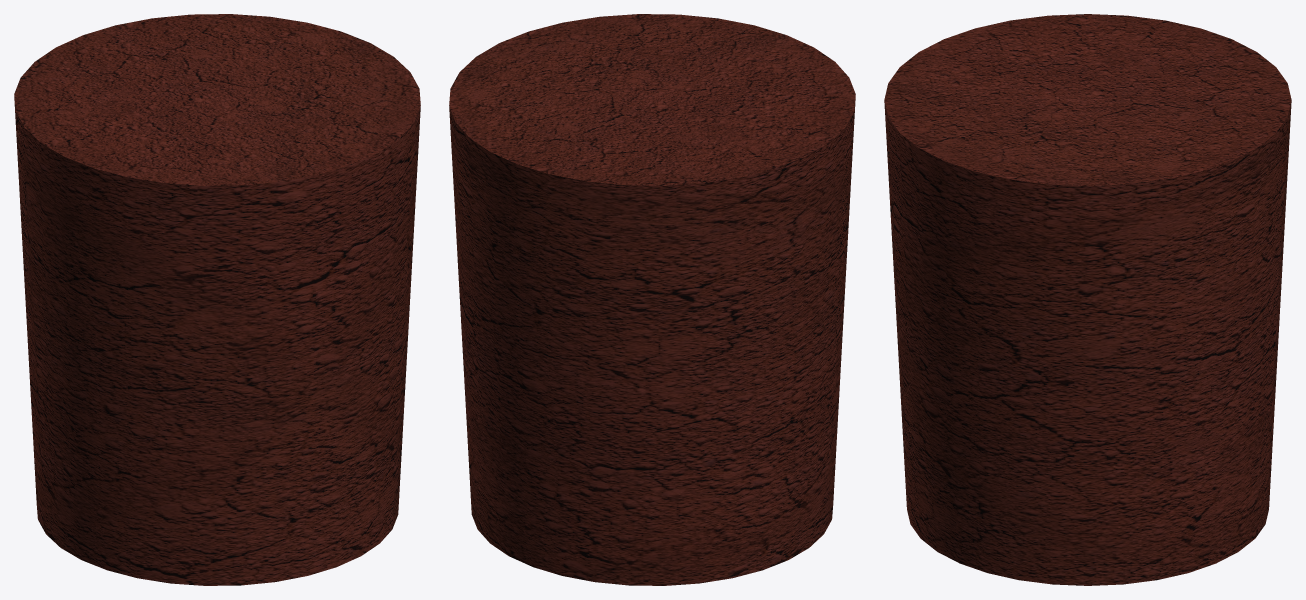
The model's file is dirt.gltf.
3 views of the same model, side by side, from view 1: azimuth 30°, elevation 25°; view 2: azimuth 150°, elevation 25°; view 3: azimuth 270°, elevation 25° (orthographic).
Visible parts, largest first — view 1: Cylinder; view 2: Cylinder; view 3: Cylinder.
Part boxes in pixels (x1,y1,x2,y2): Cylinder: [14, 14, 420, 585]; Cylinder: [449, 14, 855, 585]; Cylinder: [884, 14, 1291, 585].
Size of the model in its own units: 1.8 by 2 by 1.8.
Materials: 1 (1 with a texture image).
